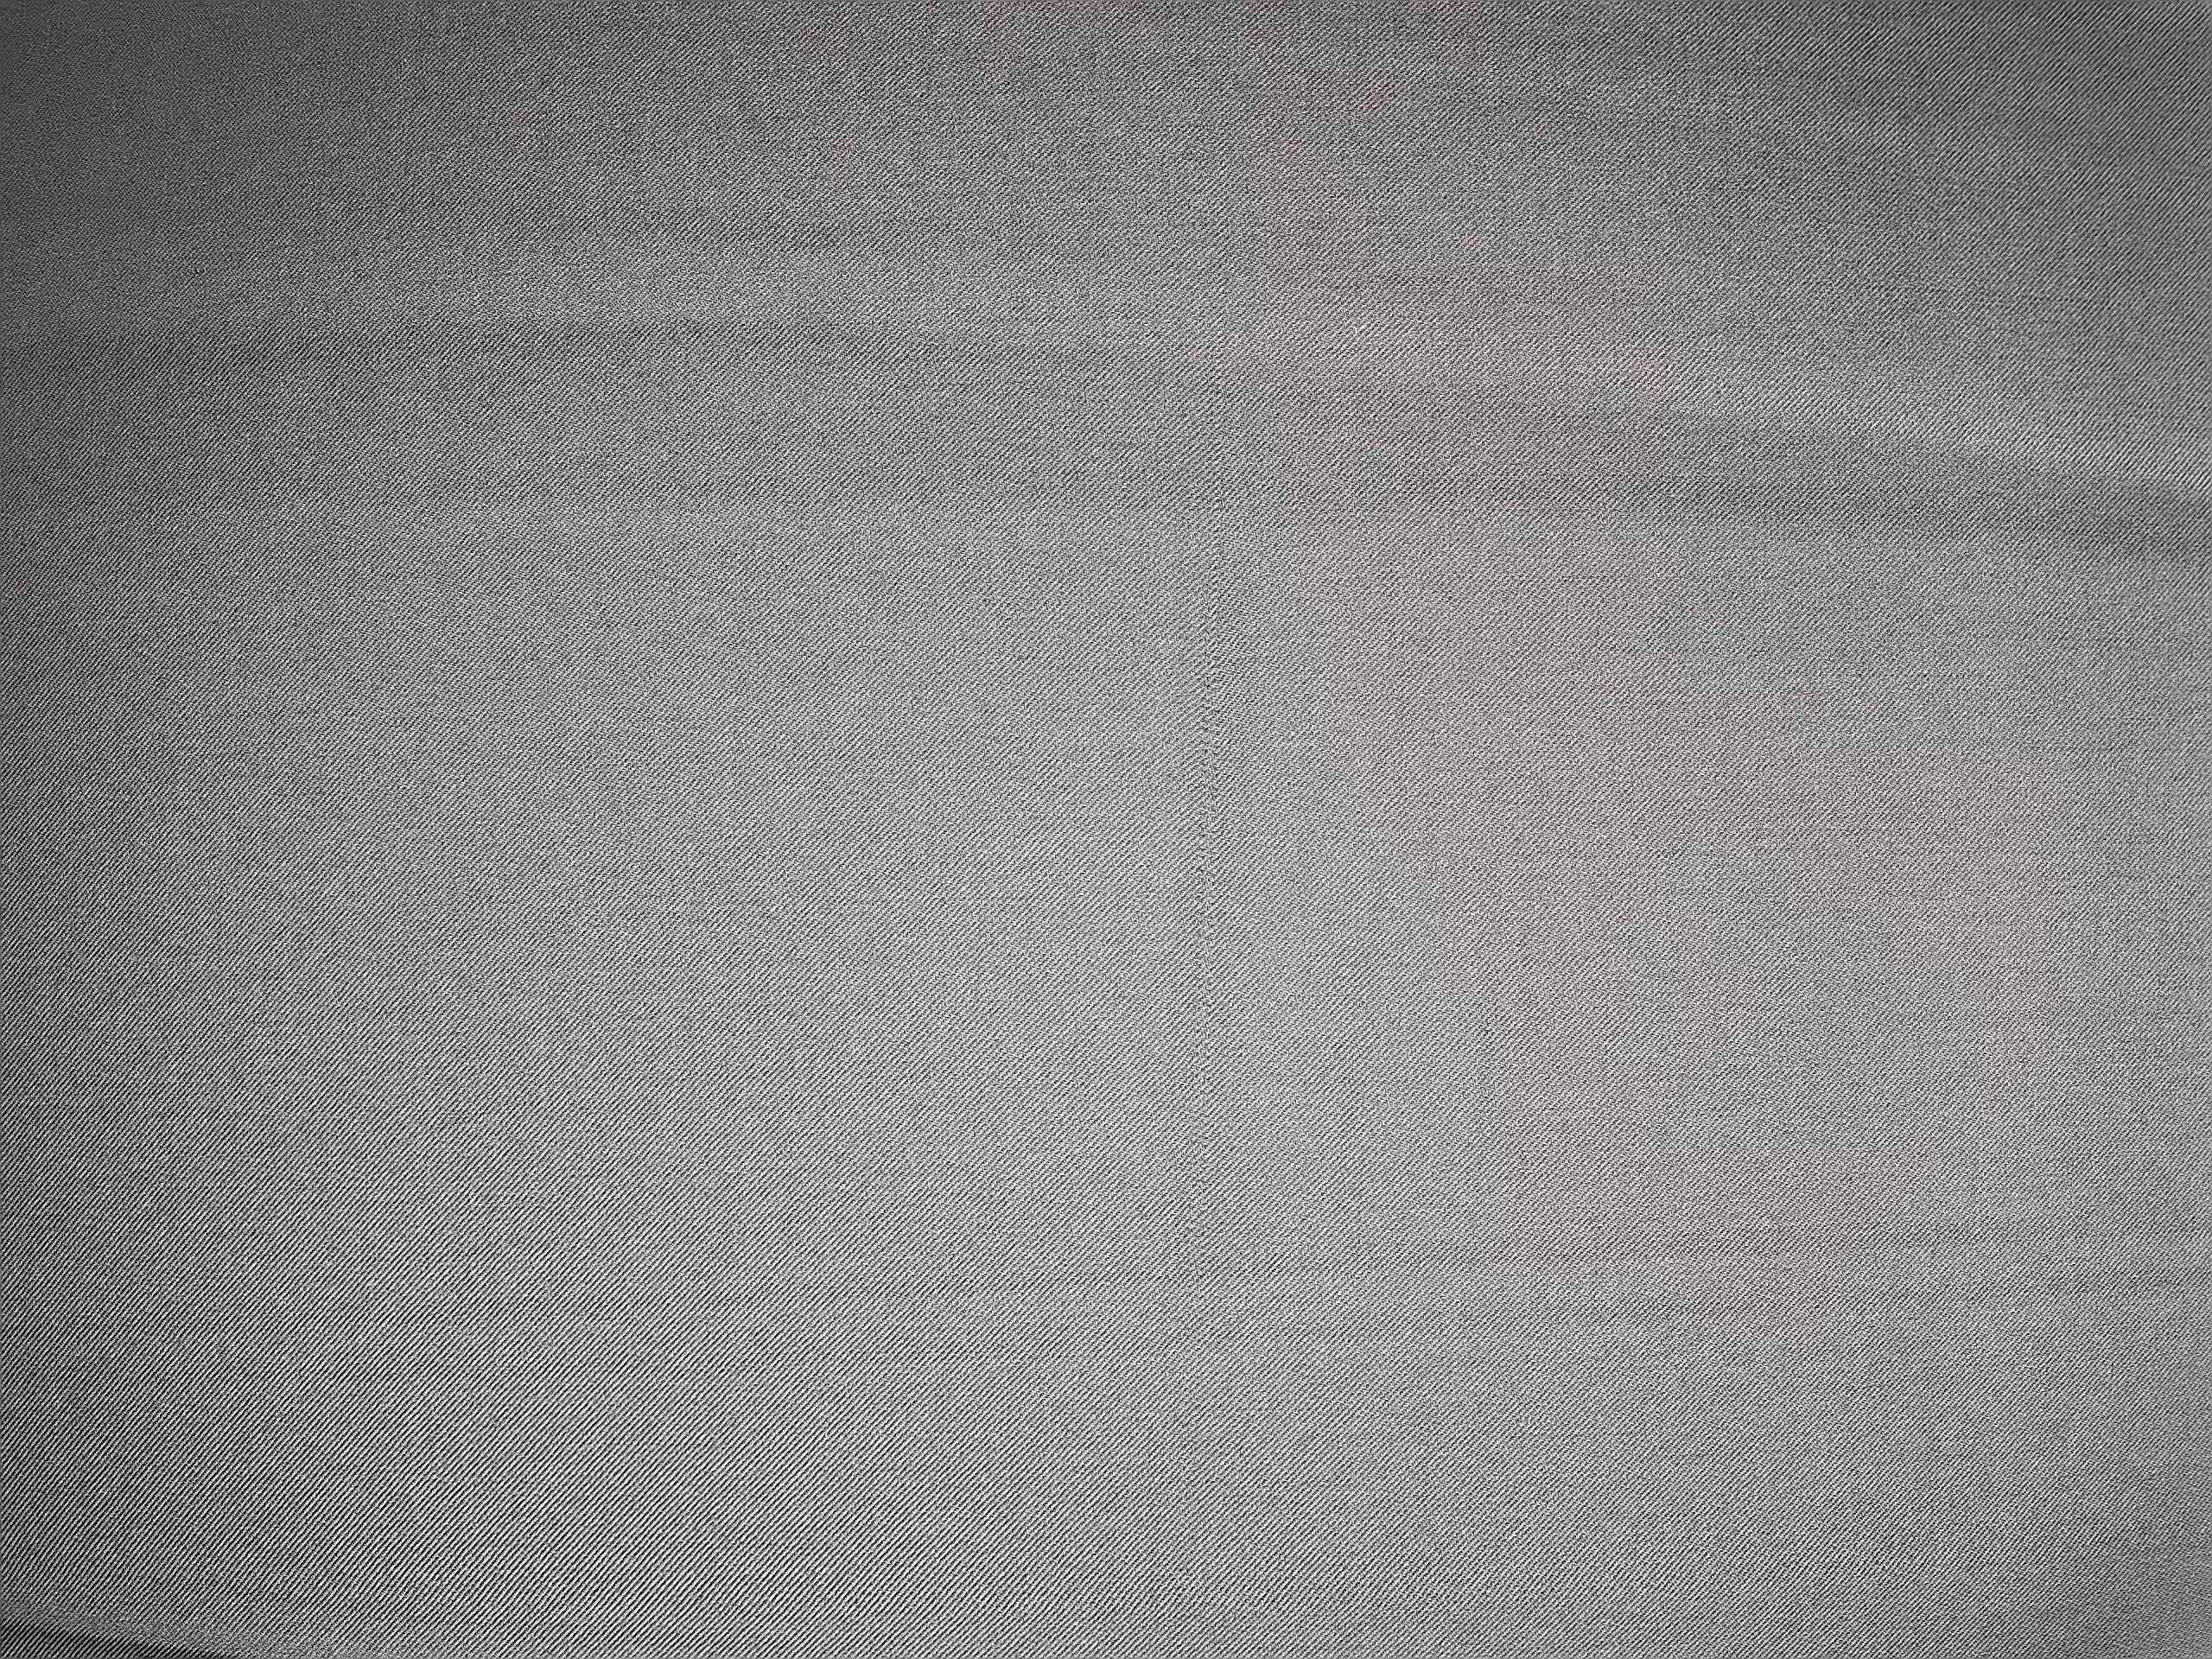hanging-warp: (1167, 322, 1247, 1314)
